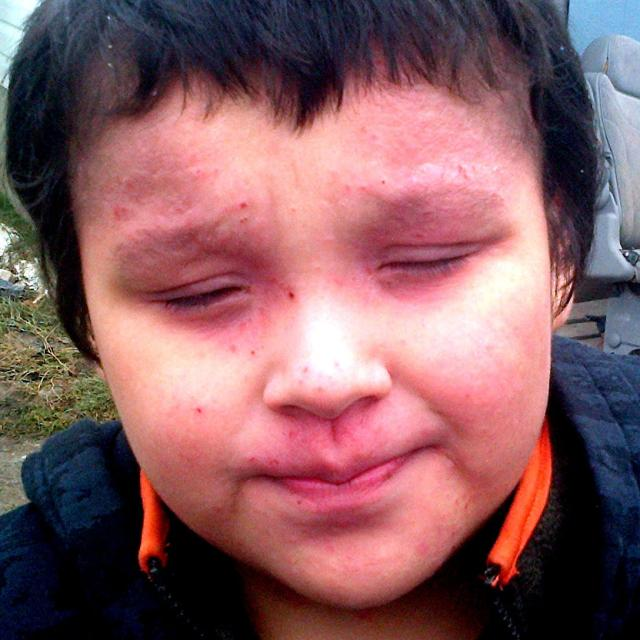Depress: (71, 47, 553, 618)
